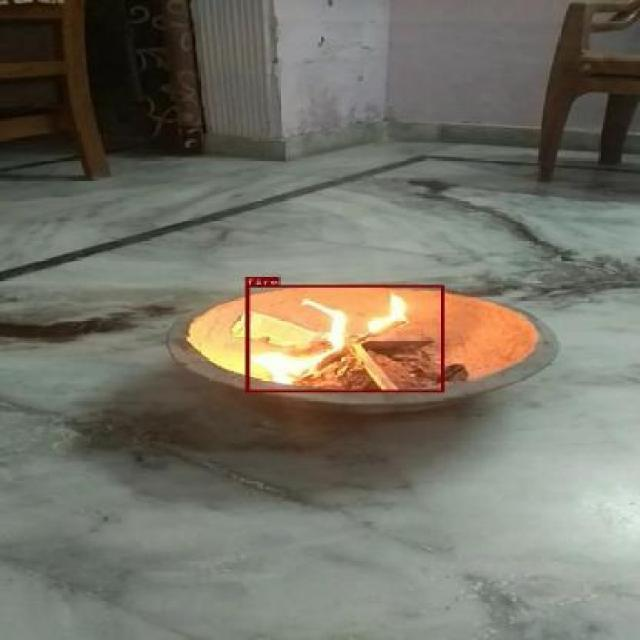Fire: (199, 108, 344, 338)
